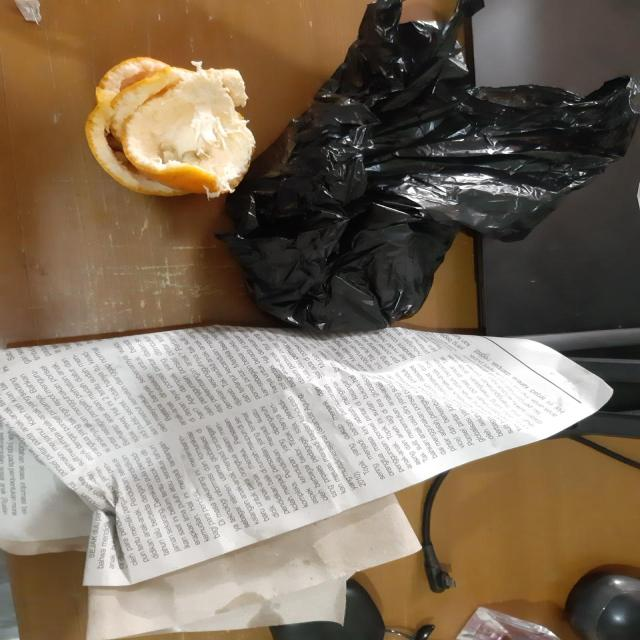Koran: (0, 325, 614, 632)
